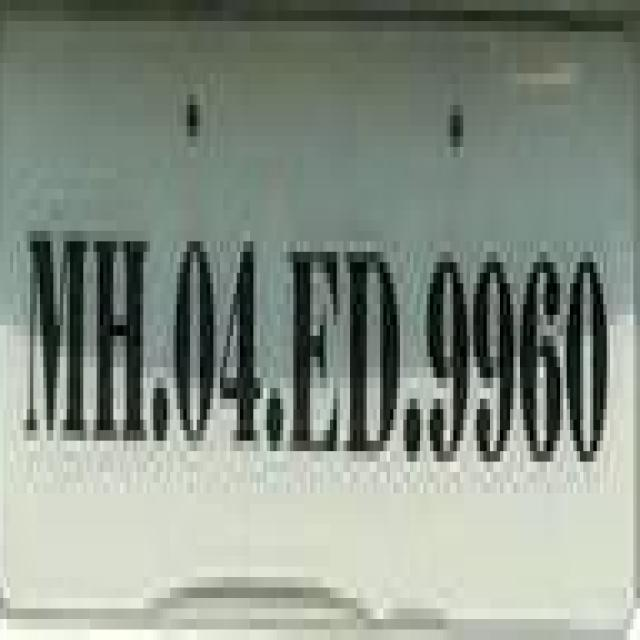license_plate: (0, 32, 607, 577)
